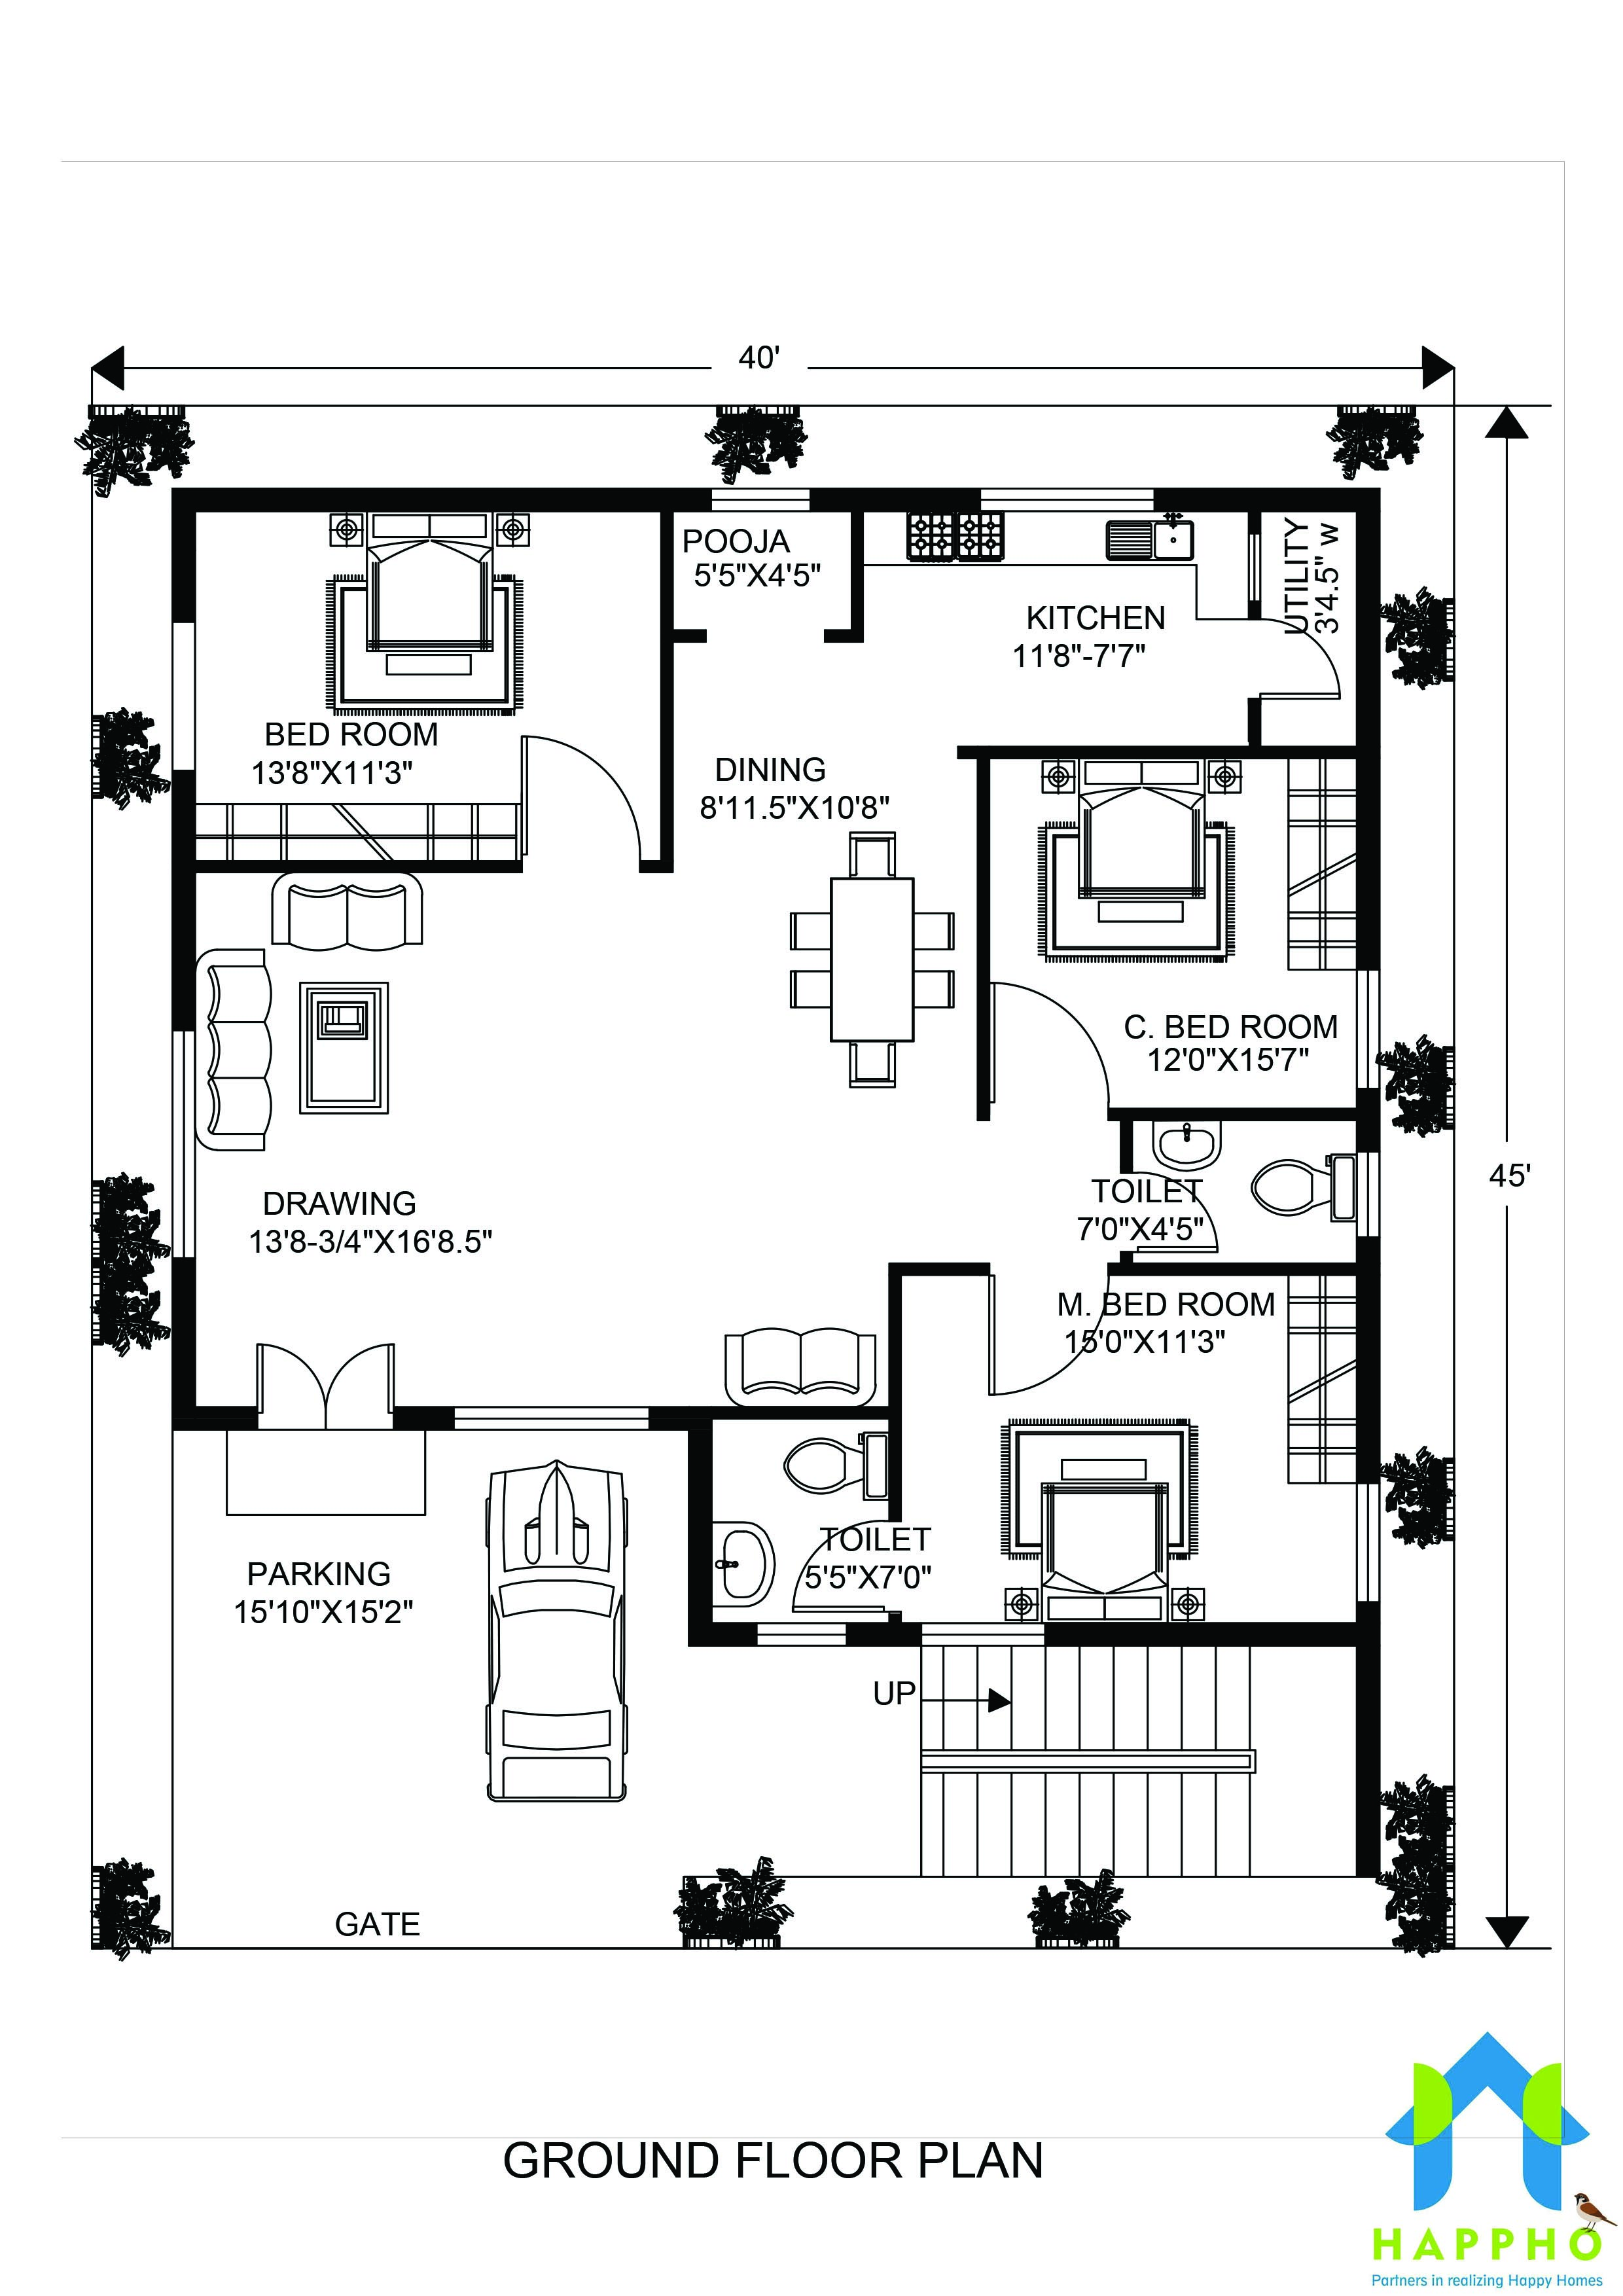wall: (198, 487, 671, 511), (1049, 1621, 1356, 1644), (1354, 1238, 1382, 1483), (956, 745, 1360, 761), (1360, 509, 1382, 759), (1156, 488, 1379, 513), (1358, 757, 1382, 970), (1358, 1644, 1381, 1873), (977, 755, 989, 1123), (169, 487, 198, 622), (172, 871, 197, 1035), (193, 863, 518, 875), (690, 1432, 711, 1620), (660, 641, 674, 877), (862, 488, 980, 513), (176, 1256, 195, 1402), (1129, 1110, 1358, 1123), (1131, 1263, 1361, 1274), (174, 769, 197, 870), (169, 1407, 256, 1432), (887, 1279, 901, 1411), (660, 511, 674, 639), (845, 1620, 922, 1643), (710, 1407, 899, 1416), (685, 1621, 759, 1643), (892, 1261, 989, 1277), (1358, 1087, 1381, 1152), (852, 488, 862, 627), (393, 1407, 455, 1430), (650, 1407, 708, 1426), (889, 1416, 899, 1518), (1356, 1602, 1381, 1644), (811, 488, 852, 513), (1251, 699, 1263, 750), (824, 629, 862, 639), (1105, 1107, 1131, 1121), (1124, 1119, 1131, 1168), (671, 631, 708, 639), (638, 863, 660, 875), (1119, 1253, 1131, 1272), (1110, 1265, 1131, 1274)
